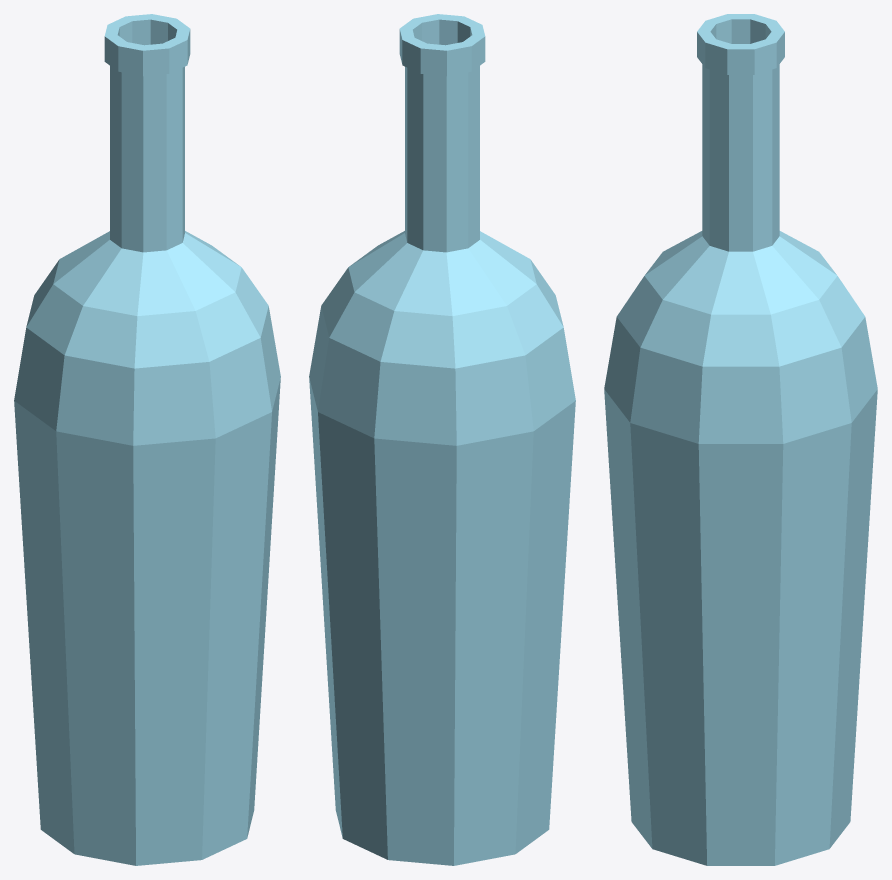
File: candle.fbx
3 views of the same model, side by side, from view 1: azimuth 30°, elevation 25°; view 2: azimuth 150°, elevation 25°; view 3: azimuth 270°, elevation 25° (orthographic).
Parts seen in each view (by area): view 1: candle; view 2: candle; view 3: candle.
Boxes of the visible parts, left/top/right/bottom form: candle: left=14, top=14, right=280, bottom=865; candle: left=309, top=14, right=575, bottom=865; candle: left=604, top=14, right=877, bottom=865.
Bounding box in the file's own units: 13.73 × 46.02 × 14.44.
